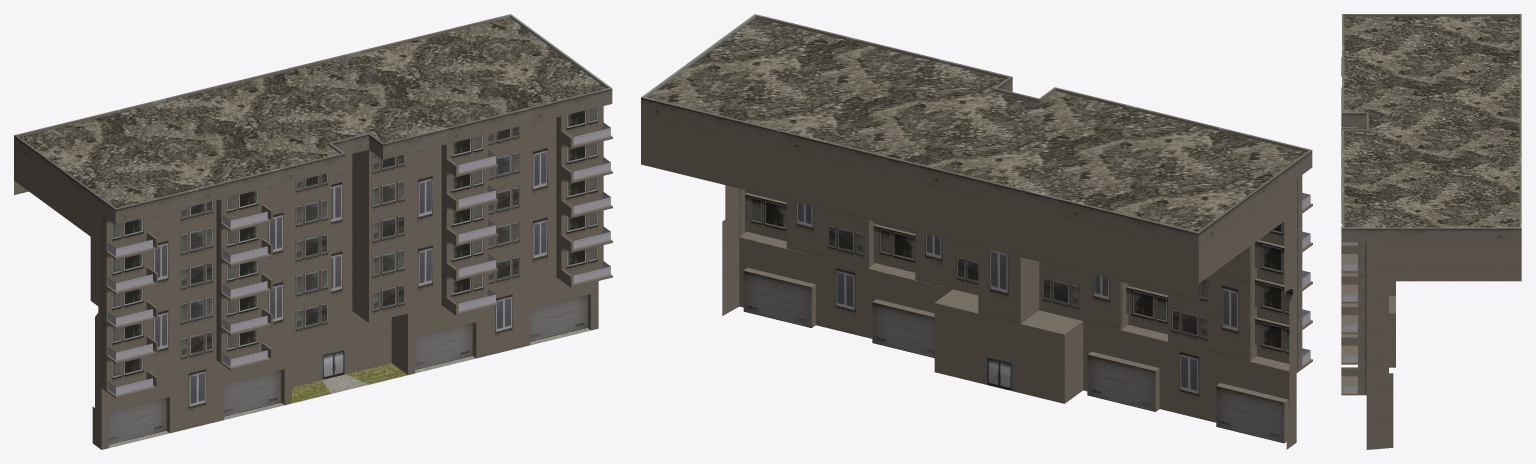
The model's file is blokcut_sfw02.obj.
3 views of the same model, side by side, from view 1: azimuth 30°, elevation 25°; view 2: azimuth 150°, elevation 25°; view 3: azimuth 270°, elevation 25° (orthographic). The views are drawn at different scales.
Visible parts, largest first — view 1: blokcut_sfw02; view 2: blokcut_sfw02; view 3: blokcut_sfw02.
Part boxes in pixels (x1=…): blokcut_sfw02: x1=14, y1=14, x2=612, y2=449; blokcut_sfw02: x1=641, y1=14, x2=1312, y2=449; blokcut_sfw02: x1=1341, y1=14, x2=1521, y2=449.
Bounding box in the file's own units: 63.48 × 30.6 × 22.56.
Materials: 11 (11 with a texture image).
